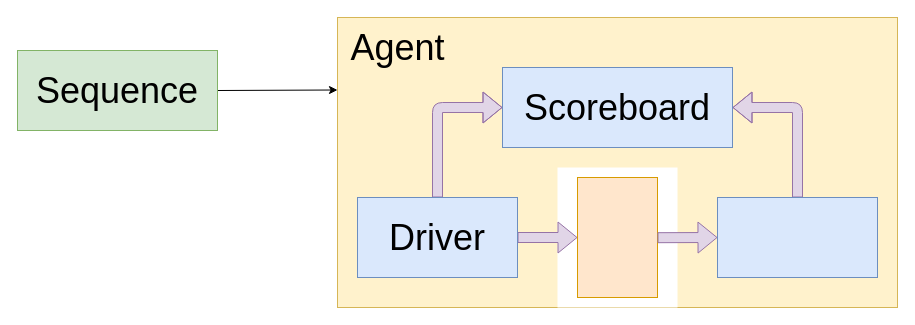
The diagram is 915 pixels wide and 325 high, and some of its shapes have lost their labels. Each missing label, with the centre of its shape:
DUT: (617,237)
Monitor: (797,237)
